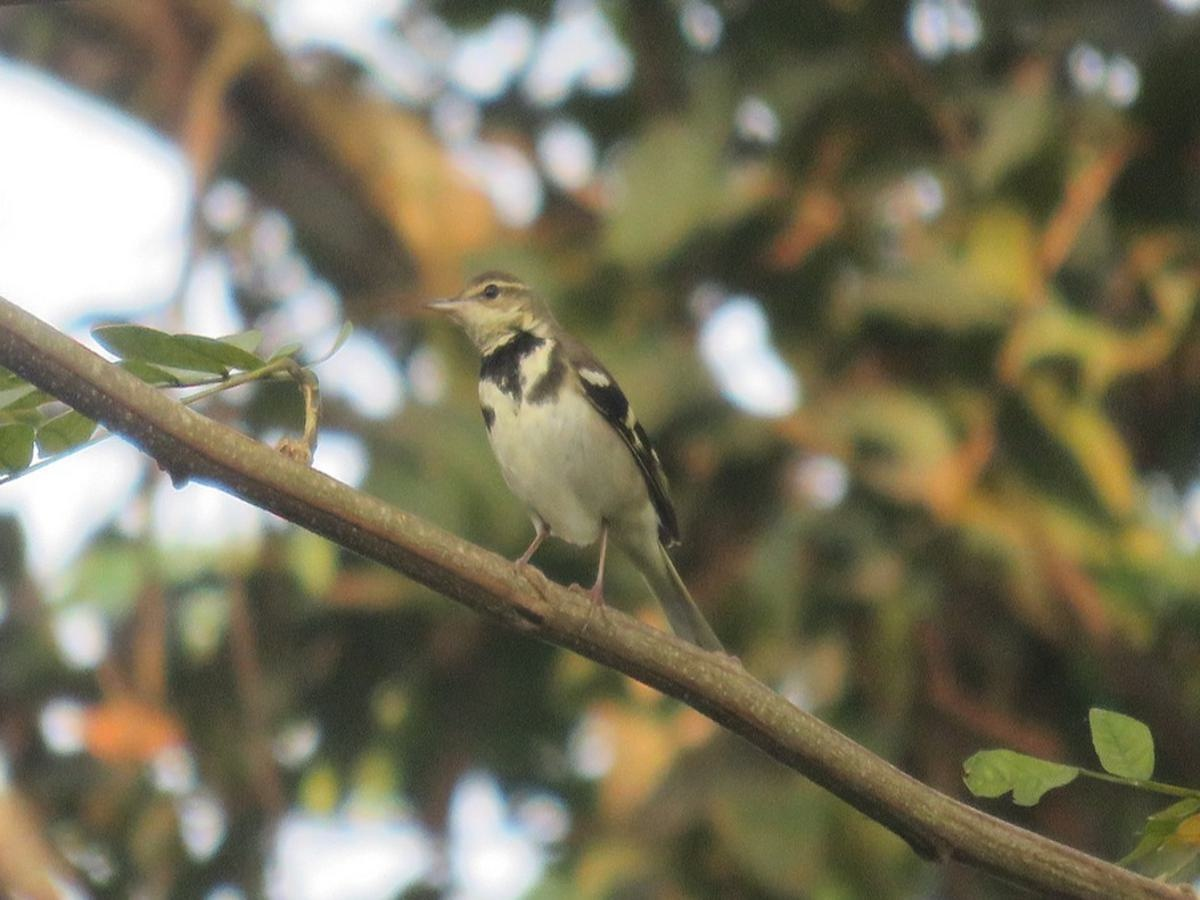wagtail: (426, 270, 781, 637)
